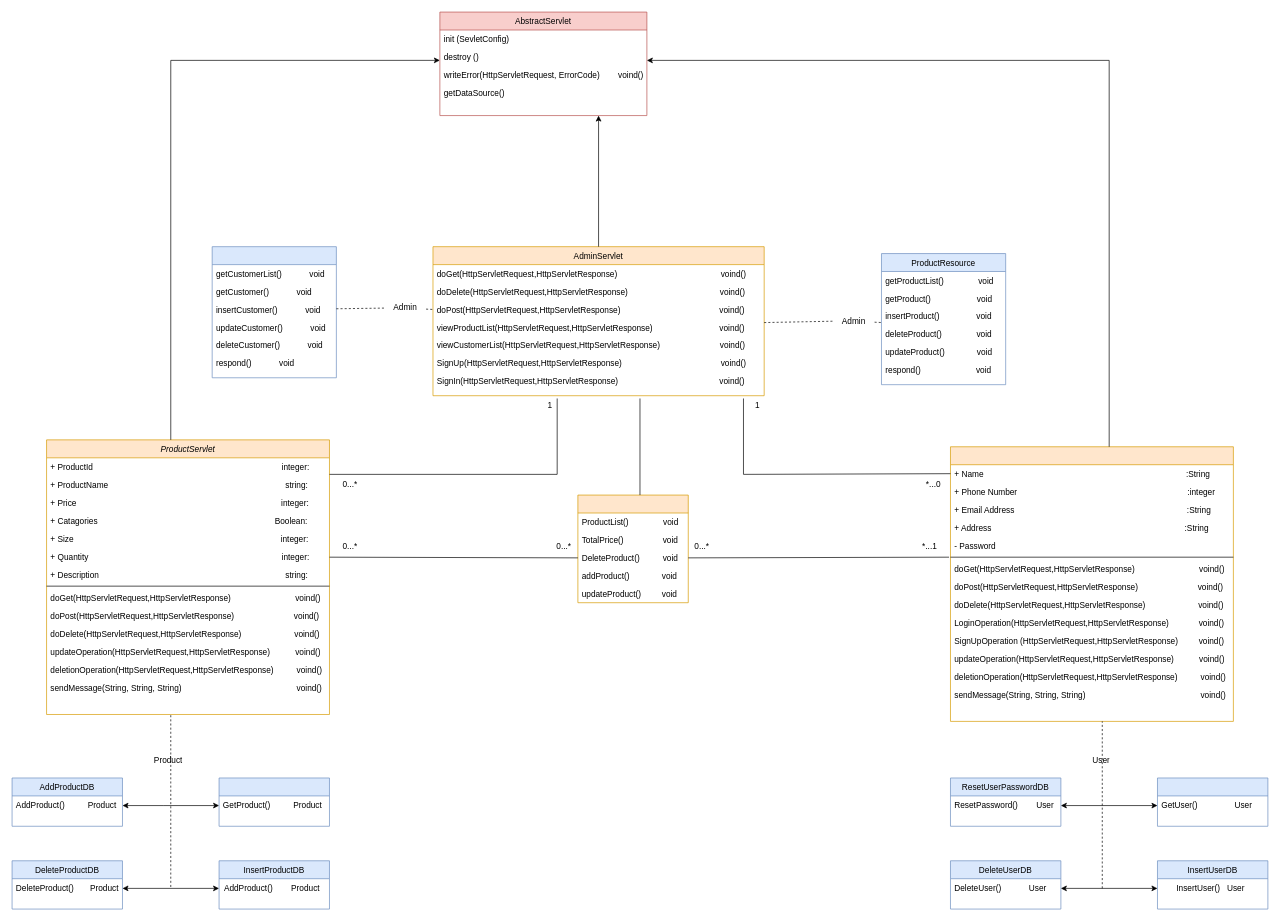
Some shapes in this 1280 by 921 pixel diagram are drawn without their labels. Each missing label, with the box of its shape:
Cartservelt: (577, 494, 688, 603)
CustomerResource: (211, 246, 336, 378)
CustomerServlet: (950, 446, 1233, 721)
GetProductDB: (218, 777, 329, 826)
GetUserDB: (1157, 777, 1268, 826)
